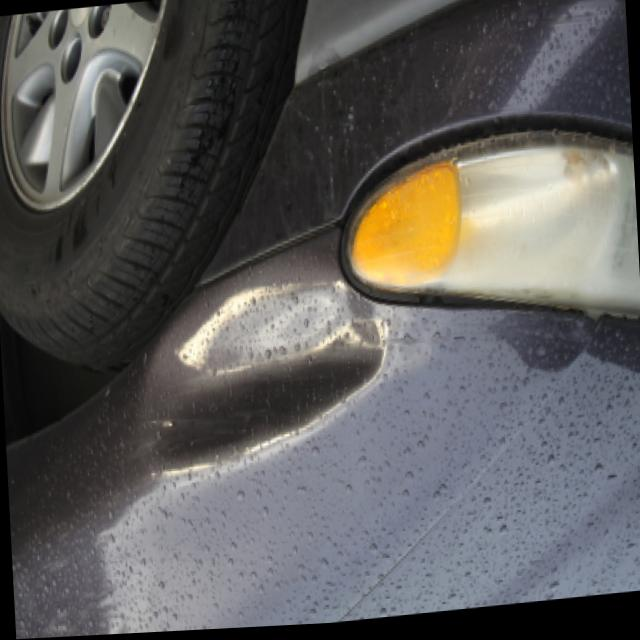Dent: (144, 284, 379, 450)
